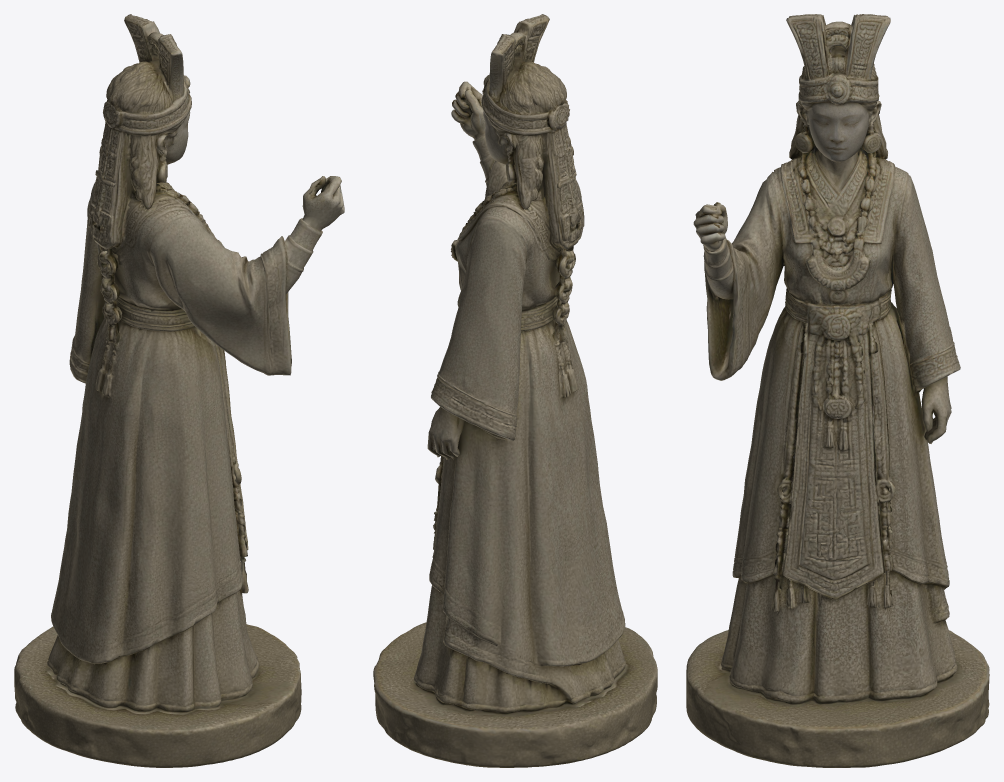
The model's file is ancient_statue_3d_model_5.fbx.
3 renders of one model, left to right at view 1: azimuth 30°, elevation 25°; view 2: azimuth 150°, elevation 25°; view 3: azimuth 270°, elevation 25°, orthographic. The views are drawn at different scales.
Parts seen in each view (by area): view 1: tripo_node_90cf9595; view 2: tripo_node_90cf9595; view 3: tripo_node_90cf9595.
Part boxes in pixels (x1=…): tripo_node_90cf9595: x1=14, y1=14, x2=344, y2=767; tripo_node_90cf9595: x1=373, y1=14, x2=657, y2=767; tripo_node_90cf9595: x1=686, y1=14, x2=989, y2=767.
Size of the model in its own units: 0.3703 by 0.9798 by 0.3874.
